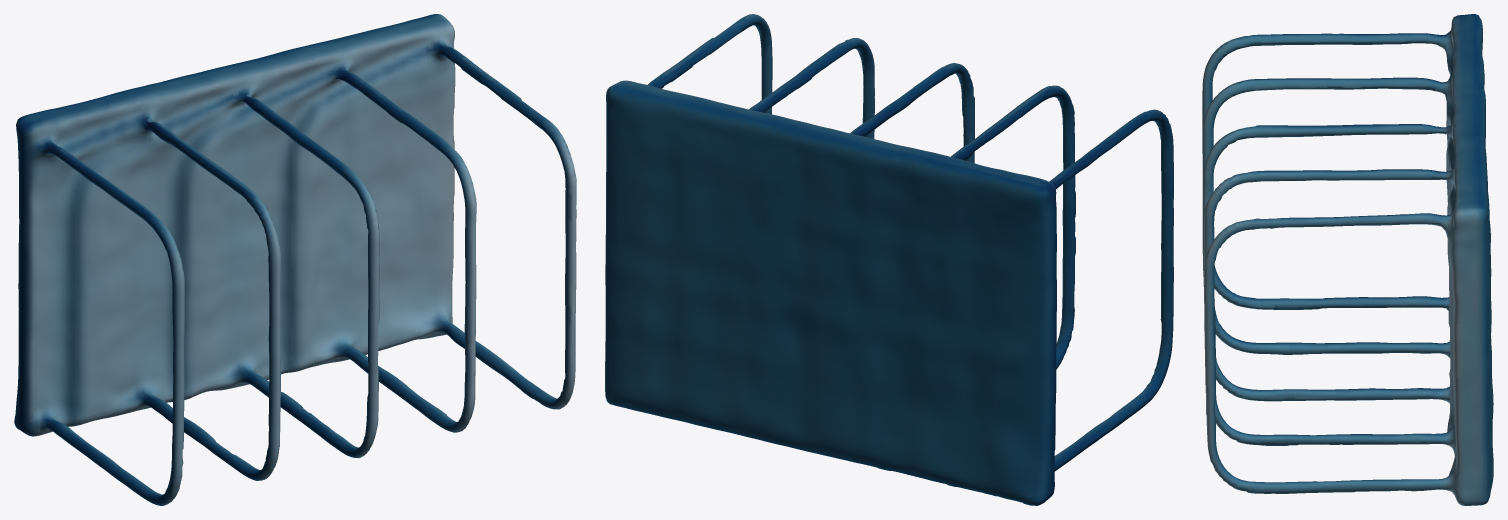
Rendered from sorter.glb.
3 renders of one model, left to right at view 1: azimuth 30°, elevation 25°; view 2: azimuth 150°, elevation 25°; view 3: azimuth 270°, elevation 25°, orthographic. The views are drawn at different scales.
Bounding box in the file's own units: 0.9995 × 0.696 × 0.613.
